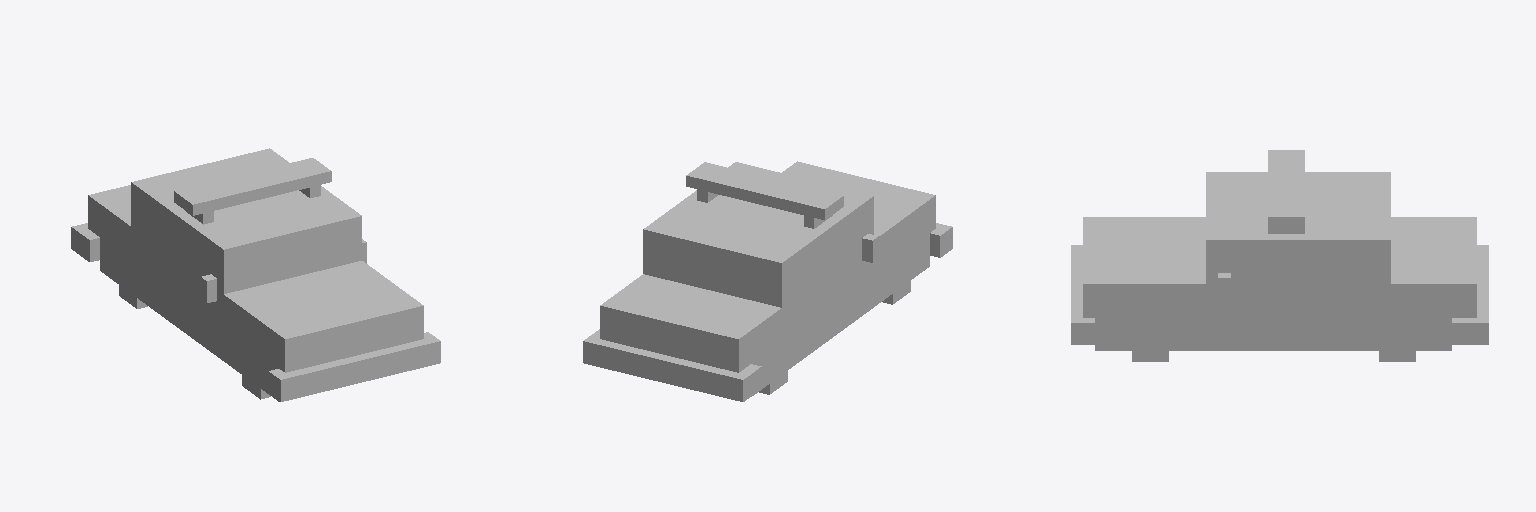
Rendered from cars-1.obj.
3 views of the same model, side by side, from view 1: azimuth 30°, elevation 25°; view 2: azimuth 150°, elevation 25°; view 3: azimuth 270°, elevation 25° (orthographic).
Parts seen in each view (by area): view 1: object 1; view 2: object 1; view 3: object 1.
Part boxes in pixels (x1,y1,x2,y2): object 1: (71,148,440,401); object 1: (583,161,952,401); object 1: (1071,150,1488,361).
Bounding box in the file's own units: 1.5 × 1.3 × 3.4.